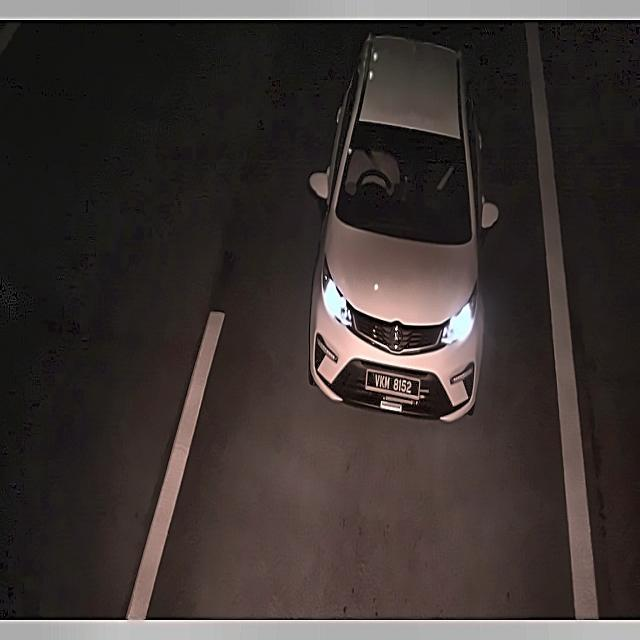car: (360, 358, 432, 410)
